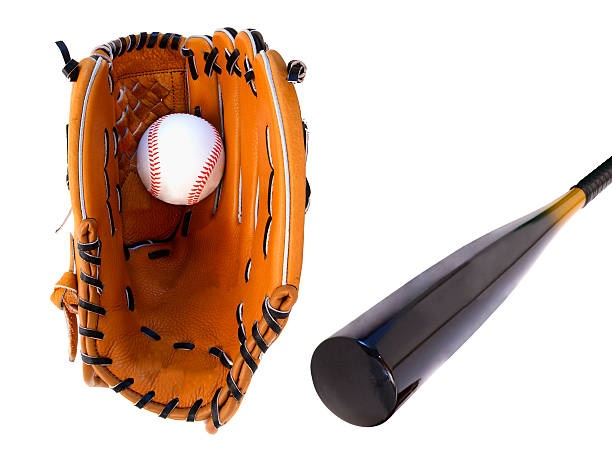bita: (318, 160, 612, 424)
